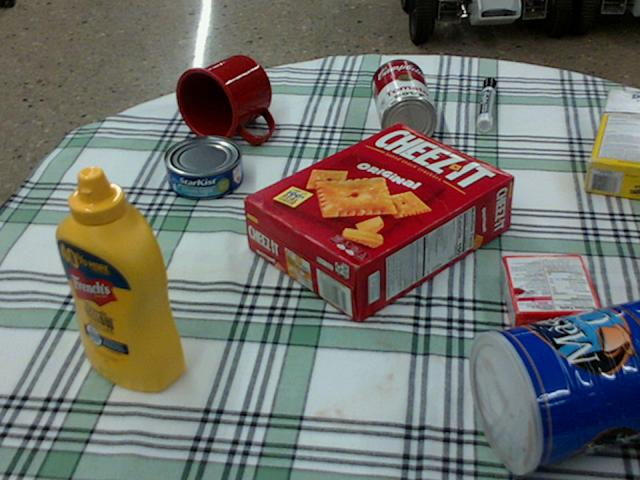cracker_box: (243, 124, 514, 322)
gelatin_box: (500, 253, 601, 333)
large_marker: (475, 77, 496, 130)
master_chef_can: (469, 296, 639, 476)
mug: (175, 54, 273, 142)
mustard_bottle: (55, 166, 185, 391)
potted_meat_can: (638, 249, 639, 258)
sugar_box: (587, 88, 639, 200)
tomato_soup_can: (371, 57, 436, 145)
tuna_fish_can: (162, 134, 242, 198)
